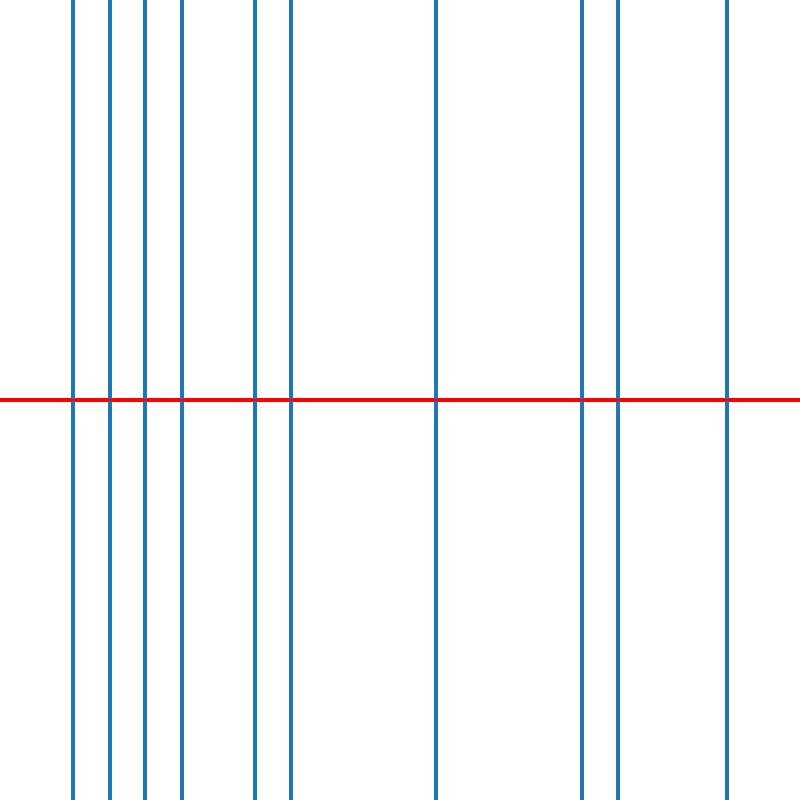root: (141, 396, 149, 404), (432, 396, 440, 404), (250, 396, 258, 404), (614, 396, 621, 404), (69, 396, 76, 404), (178, 396, 185, 404), (578, 396, 585, 404), (105, 396, 112, 404), (287, 396, 294, 404), (723, 396, 730, 404)
